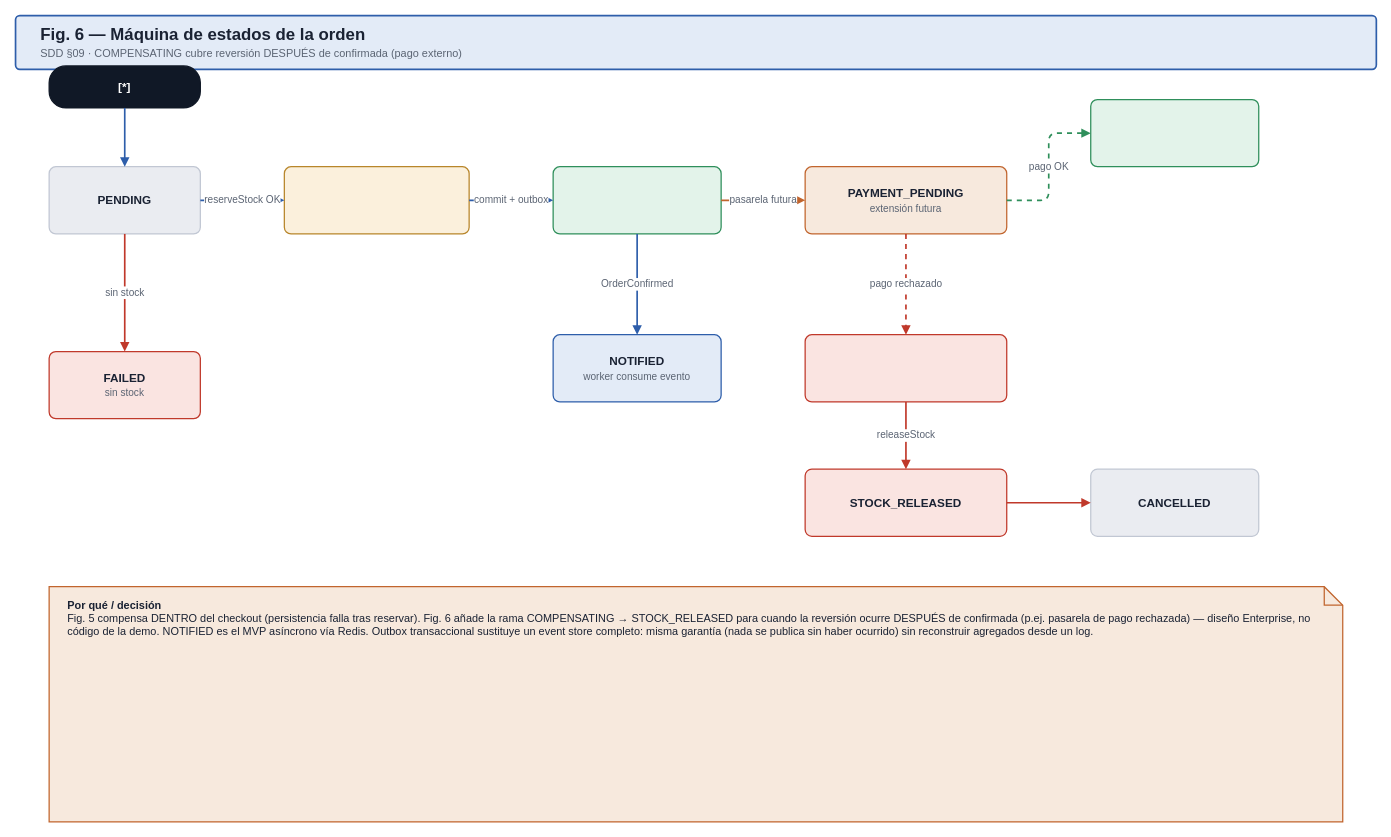
This 1391x837 diagram has some shape labels left out. Here are the shapes that lost their labels. From the top down, the centre of each, then its label:
At (1174,133): "COMPLETED pago aprobado".
At (376,200): "STOCK_RESERVED".
At (636,200): "CONFIRMED".
At (905,368): "COMPENSATING pago rechazado".
